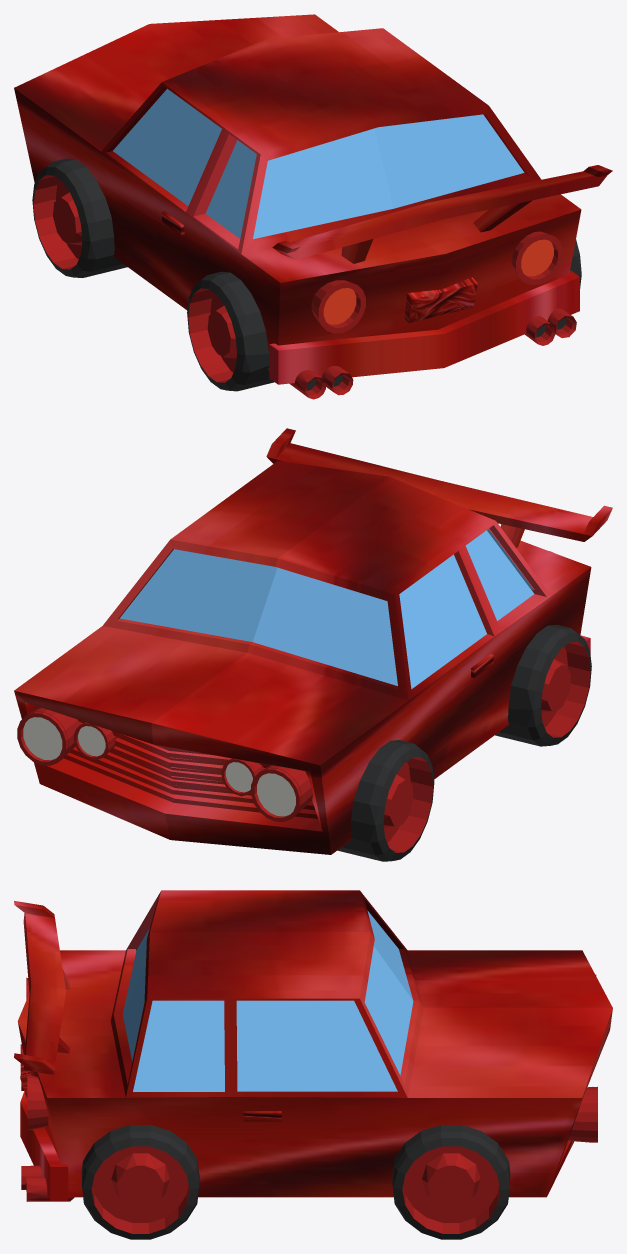
The model's file is car2backup.gltf.
3 views of the same model, one above another, from view 1: azimuth 30°, elevation 25°; view 2: azimuth 150°, elevation 25°; view 3: azimuth 270°, elevation 25° (orthographic).
Parts seen in each view (by area): view 1: Car; view 2: Car; view 3: Car.
Part boxes in pixels (x1=…): Car: x1=14, y1=14, x2=612, y2=399; Car: x1=14, y1=428, x2=612, y2=861; Car: x1=14, y1=890, x2=612, y2=1239.
Bounding box in the file's own units: 9.14 × 5.73 × 13.74.
Materials: 6 (6 with a texture image).
